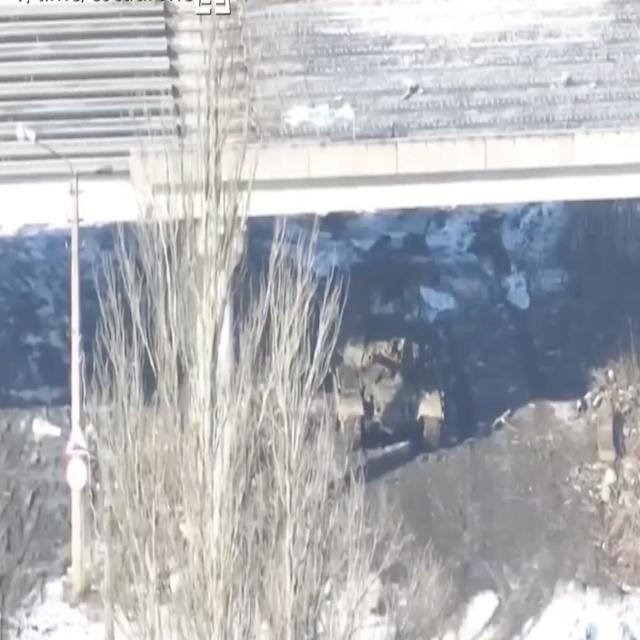vehicle: (325, 238, 447, 456)
